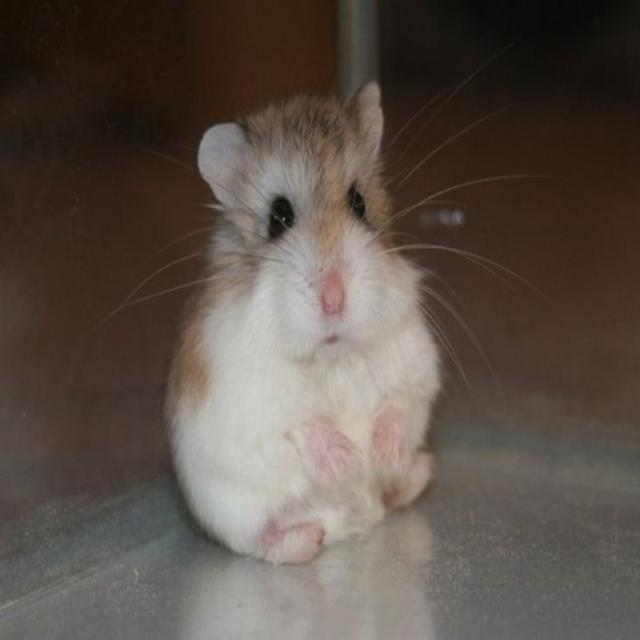hamster: (162, 73, 449, 567)
